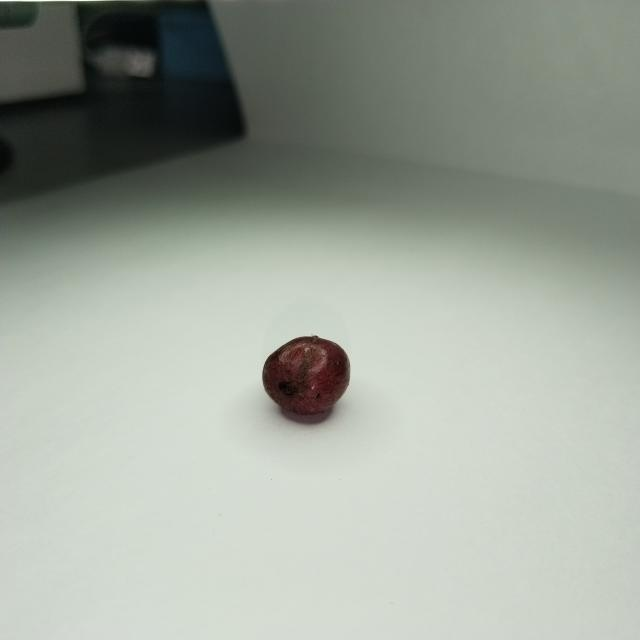Infectado: (262, 336, 350, 416)
